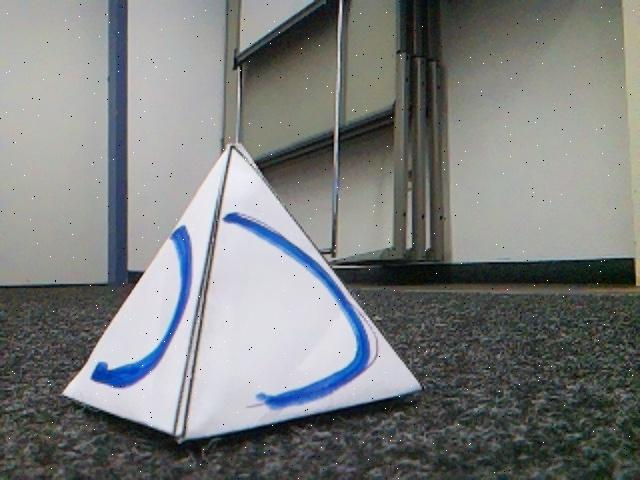C: (60, 149, 423, 444)
